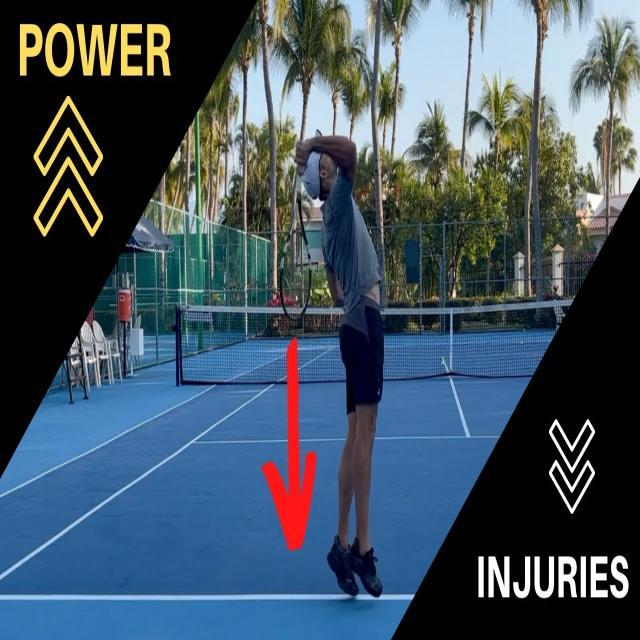court: (0, 370, 633, 628)
net: (176, 304, 612, 386)
player: (274, 112, 390, 603)
